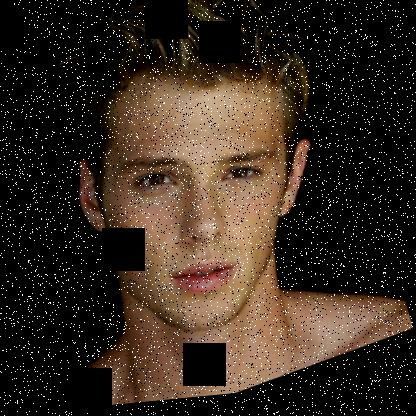Male: (50, 27, 346, 370)
